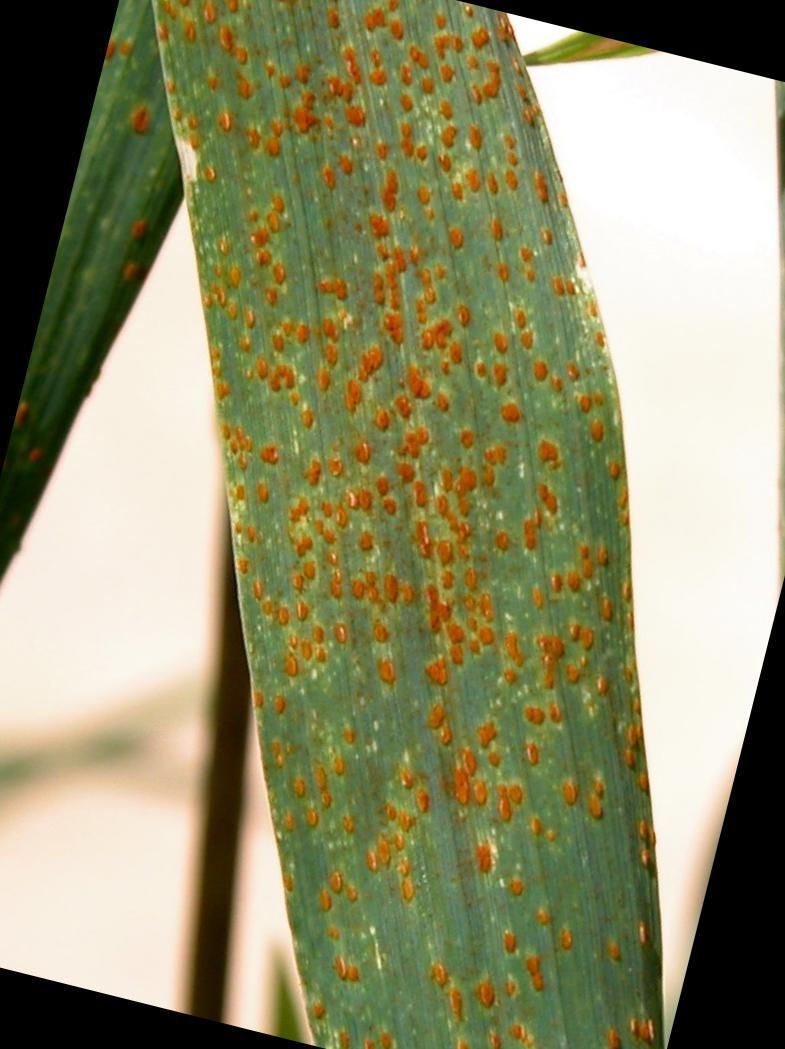Wheat: (256, 464, 608, 742), (227, 160, 557, 453), (318, 765, 634, 1032), (190, 12, 505, 143)
